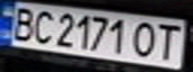1: (106, 16, 130, 55), (72, 12, 93, 51)
2: (51, 10, 75, 48)
7: (87, 14, 112, 52)
B: (3, 4, 39, 42)
C: (27, 8, 57, 45)
O: (127, 19, 163, 60)
T: (151, 20, 187, 61)
